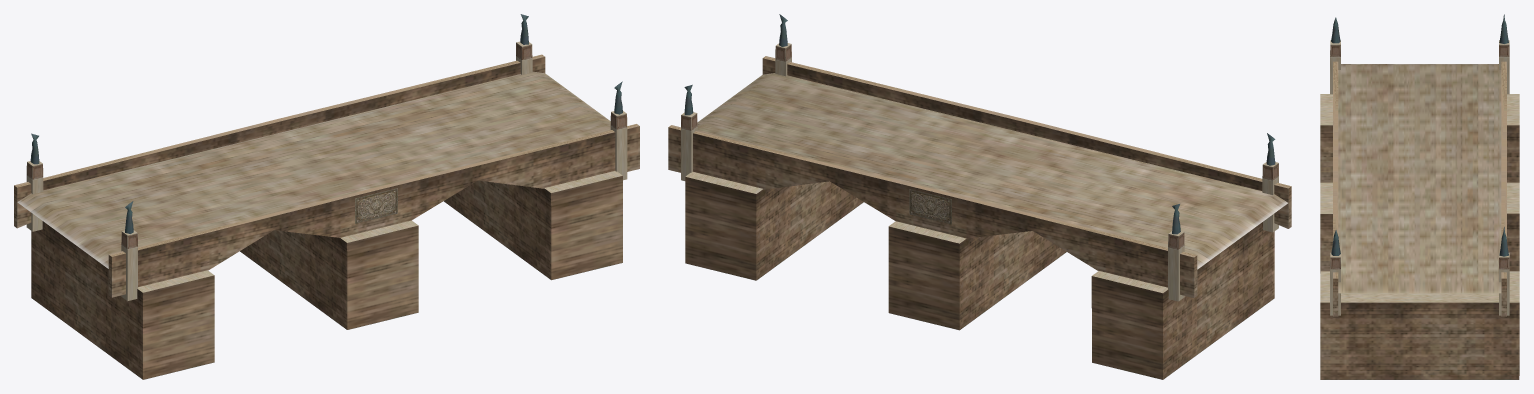
Rendered from thm_nboo_thed_imprv_bridge_s01_l2.fbx.
3 renders of one model, left to right at view 1: azimuth 30°, elevation 25°; view 2: azimuth 150°, elevation 25°; view 3: azimuth 270°, elevation 25°, orthographic. The views are drawn at different scales.
Parts seen in each view (by area): view 1: mesh_node; view 2: mesh_node; view 3: mesh_node.
Boxes of the visible parts, bbox=[...] form: mesh_node: bbox=[14, 14, 639, 379]; mesh_node: bbox=[668, 14, 1291, 379]; mesh_node: bbox=[1320, 14, 1519, 379].
Size of the model in its own units: 50 by 15.64 by 18.38.
1 material, 1 textured.
